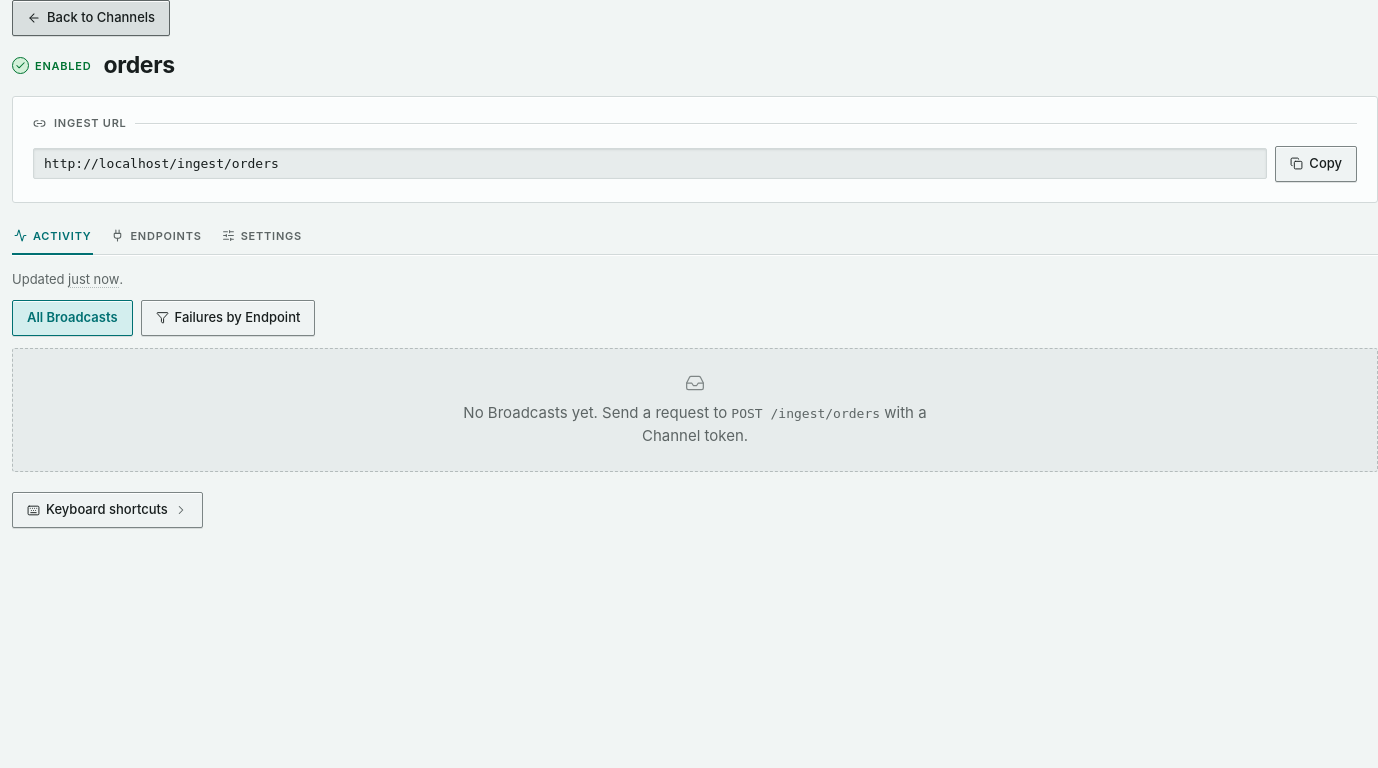
Test: Ingest URL visibility (issue #47) › copies the ingest URL and confirms the copy
Click the button "Copy".
click(1316, 164)  # box [1275,146,1357,182]
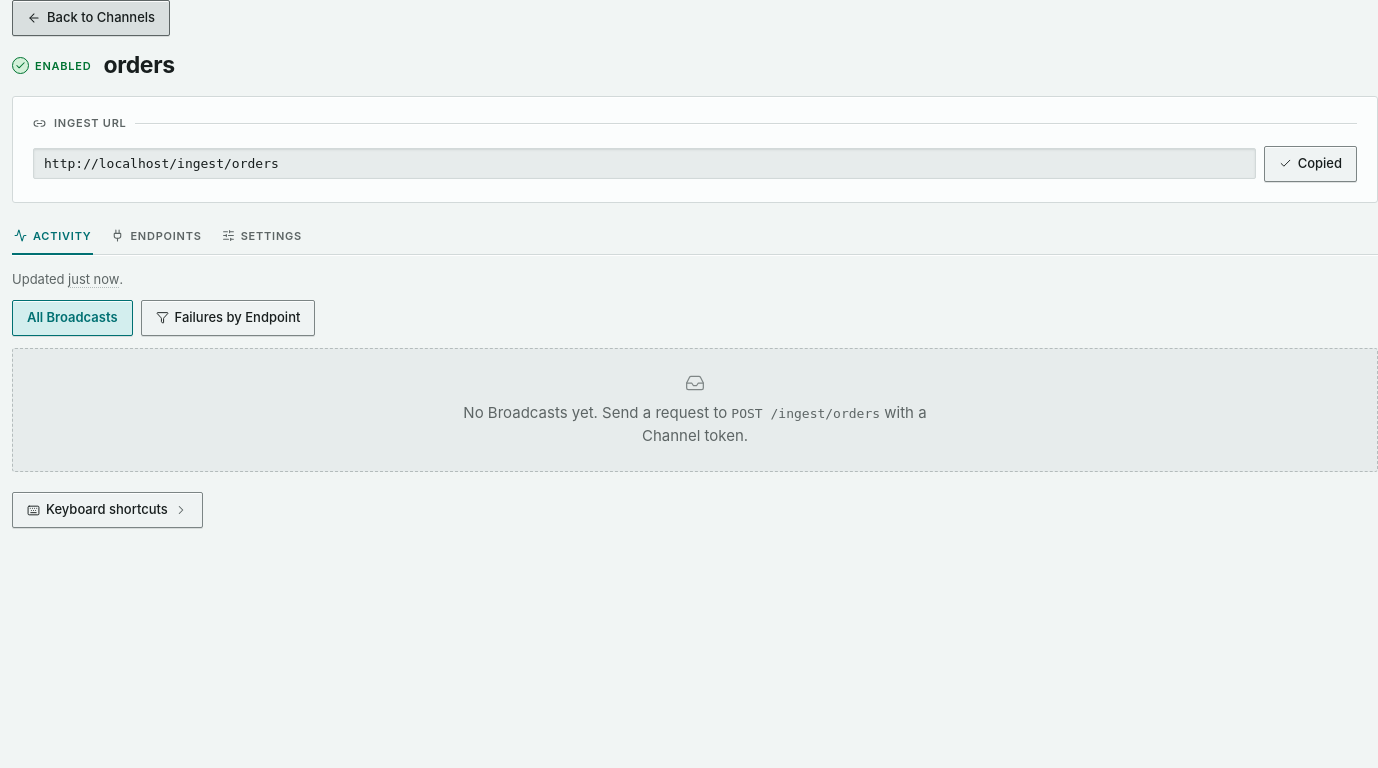
Expected: the button "Copied" is shown, [1264,146,1357,182]
